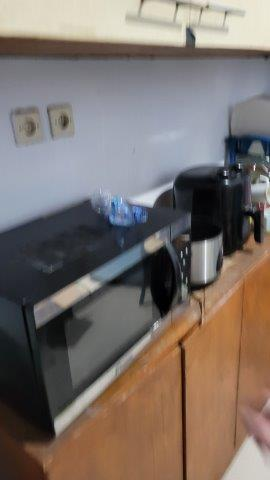botolplastik: (88, 187, 151, 228)
